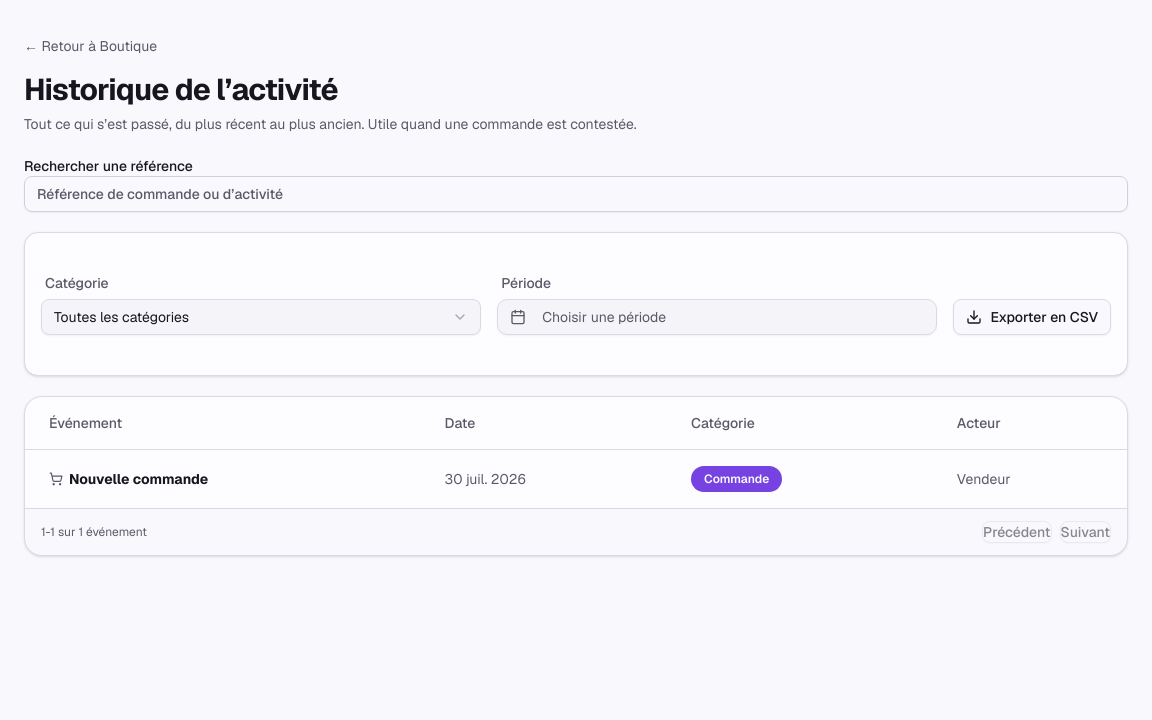
Test: AuditTrailContent › export CSV › annonce l'échec de l'export au lieu de ne rien faire
Click the button with aria-label "Exporter le journal".
click(1032, 317)  # box 953,299 -> 1111,335
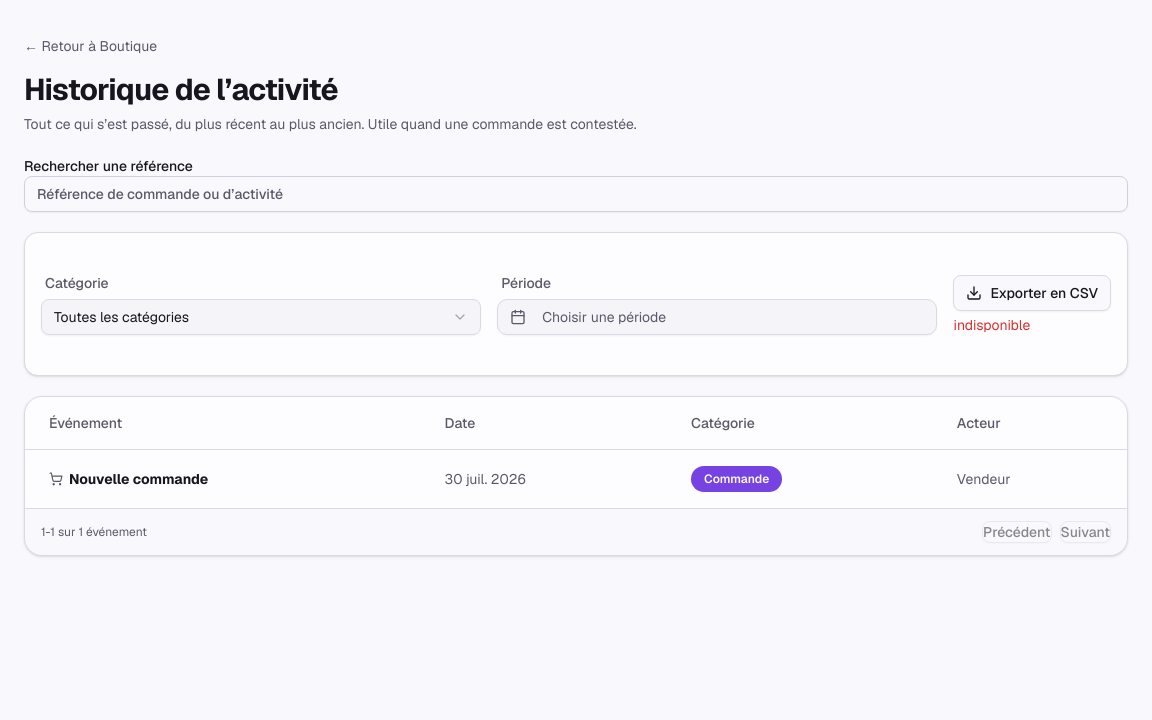
Result: the message "indisponible" is shown at 953,316 -> 1030,334
